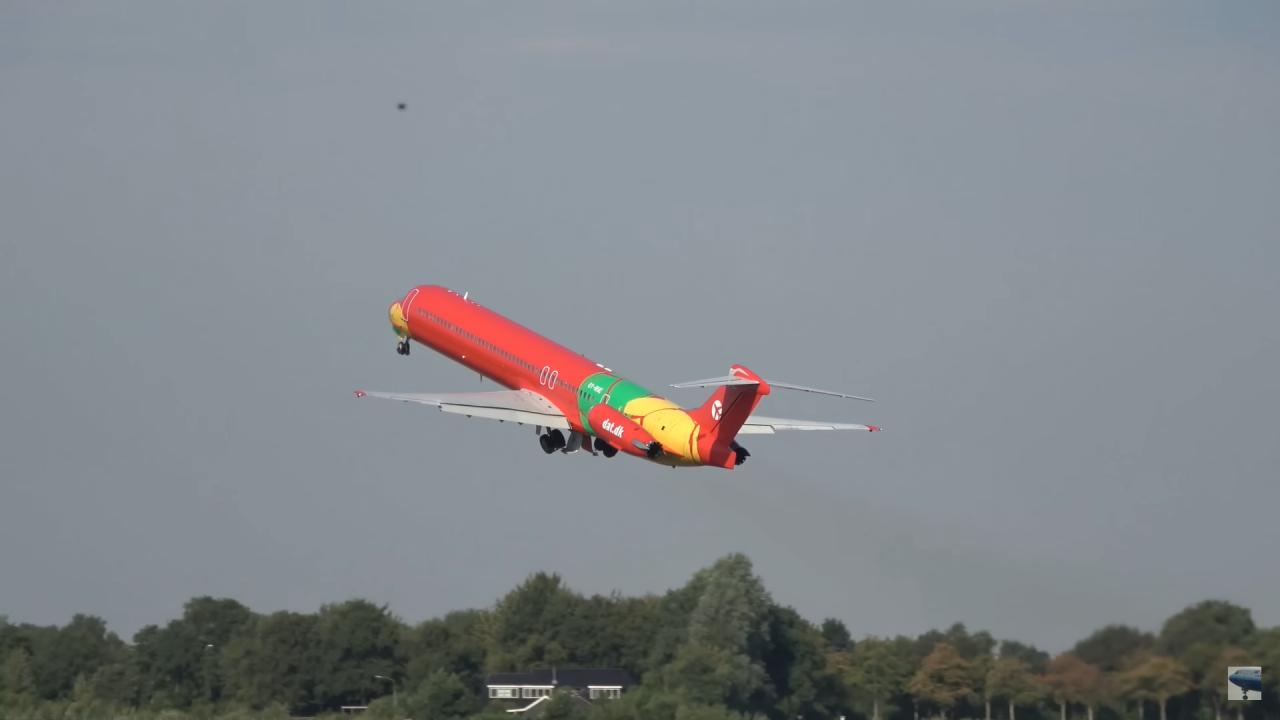Airplane: (343, 272, 892, 483)
